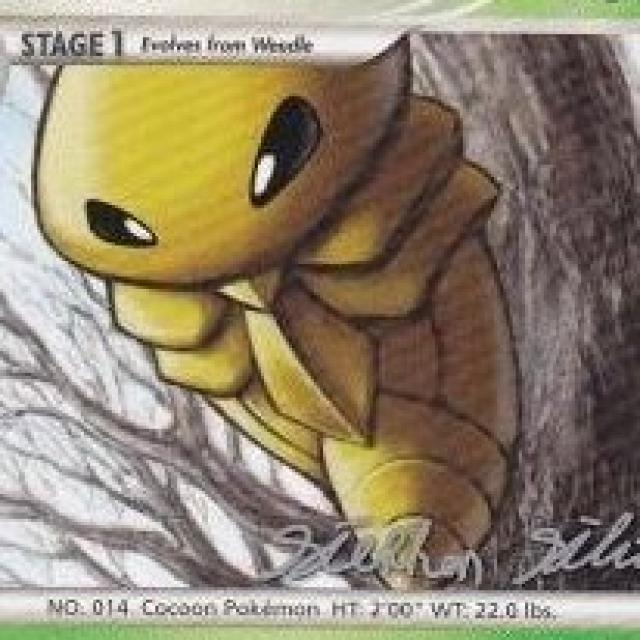Kakuna: (29, 64, 526, 592)
